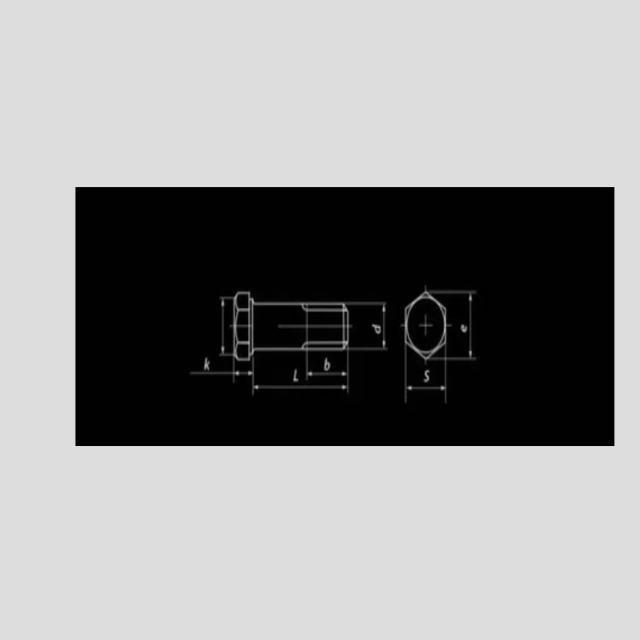marking_line: (252, 357, 352, 397), (191, 362, 255, 397), (403, 360, 449, 403), (448, 290, 476, 360), (349, 301, 387, 351), (305, 352, 351, 380), (220, 297, 233, 356), (231, 361, 255, 378)
numeric: (370, 323, 382, 336), (203, 358, 211, 370), (423, 370, 431, 382), (324, 357, 330, 371), (461, 323, 467, 333), (294, 368, 298, 382)
